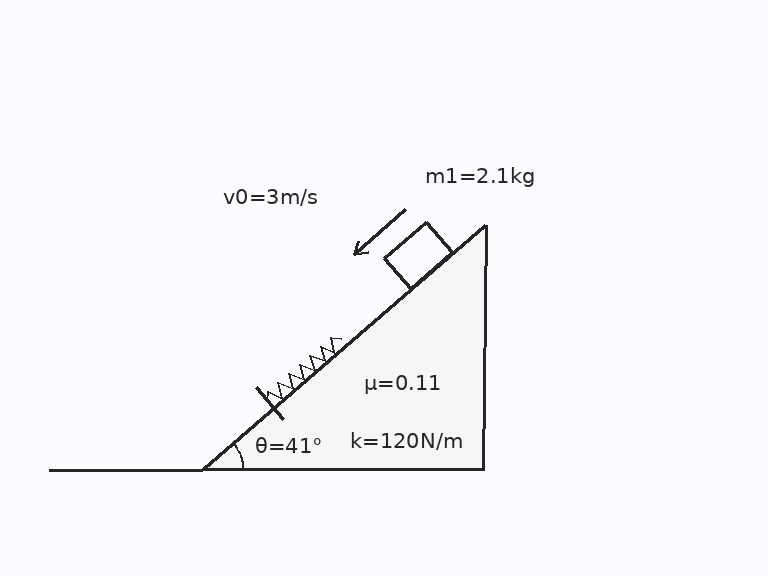block: (382, 219, 455, 291)
ramp: (201, 222, 487, 471)
spring: (265, 335, 343, 403)
